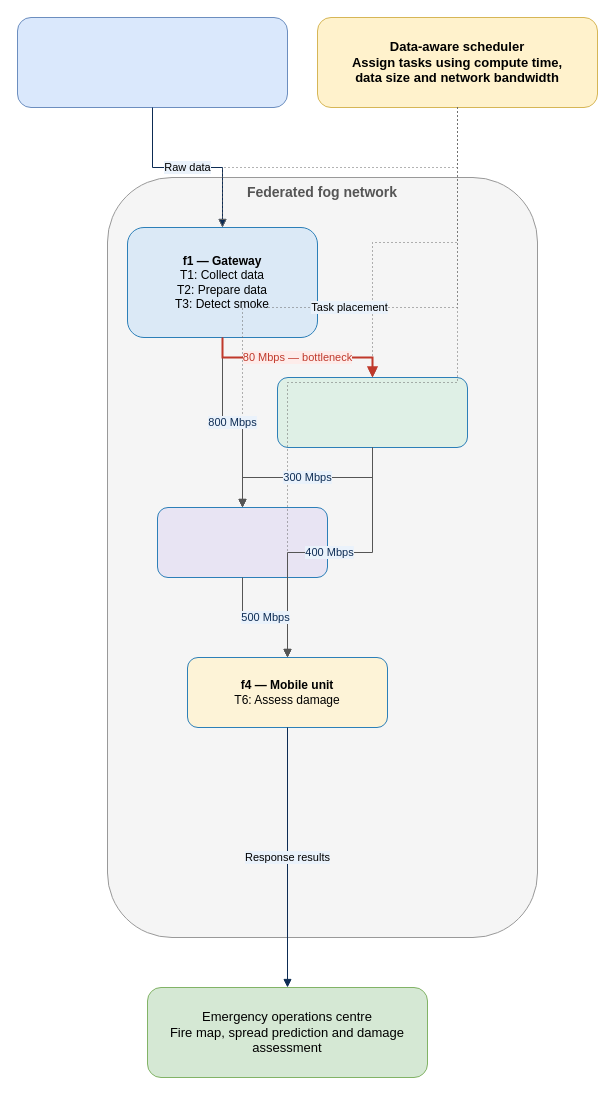
Image size: 615x1095. Some labels were removed from this diagram. Each missing label, with the centre of its shape:
f2 — Shelter T5: Map fire: (x=242, y=542)
f3 — Base station T4: Predict spread: (x=372, y=412)
Wildfire monitoring inputs Drone imagery, cameras and environmental sensors: (x=152, y=62)
